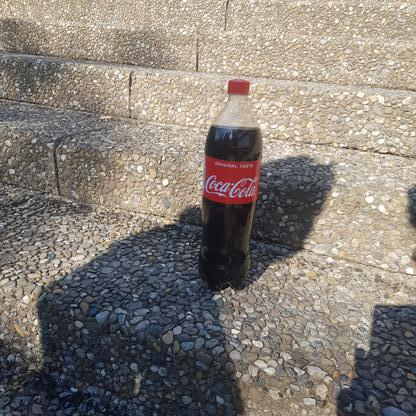coca-cola: (196, 77, 265, 295)
